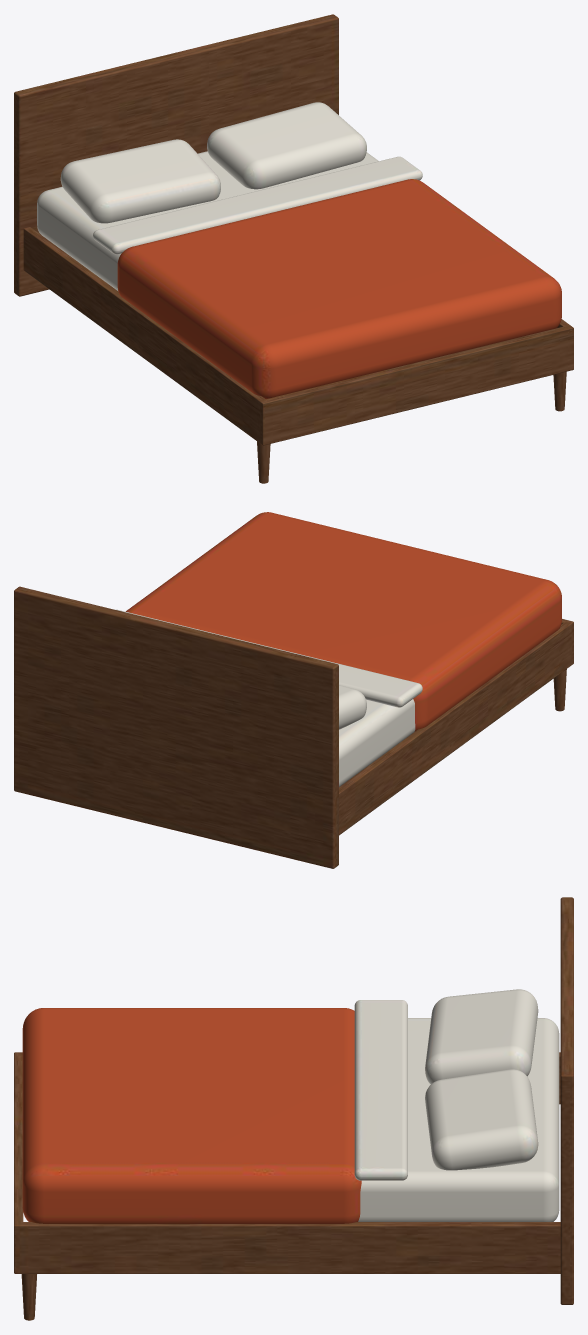
Rendered from bed.glb.
3 renders of one model, top to bottom at view 1: azimuth 30°, elevation 25°; view 2: azimuth 150°, elevation 25°; view 3: azimuth 270°, elevation 25°, orthographic. The views are drawn at different scales.
Visible parts, largest first — view 1: Cube; view 2: Cube; view 3: Cube.
Boxes of the visible parts, <box> form: Cube: <box>14,14,573,483</box>; Cube: <box>14,512,573,868</box>; Cube: <box>14,897,573,1320</box>.
Bounding box in the file's own units: 1.58 × 1.03 × 2.09.
1 material, 1 textured.
